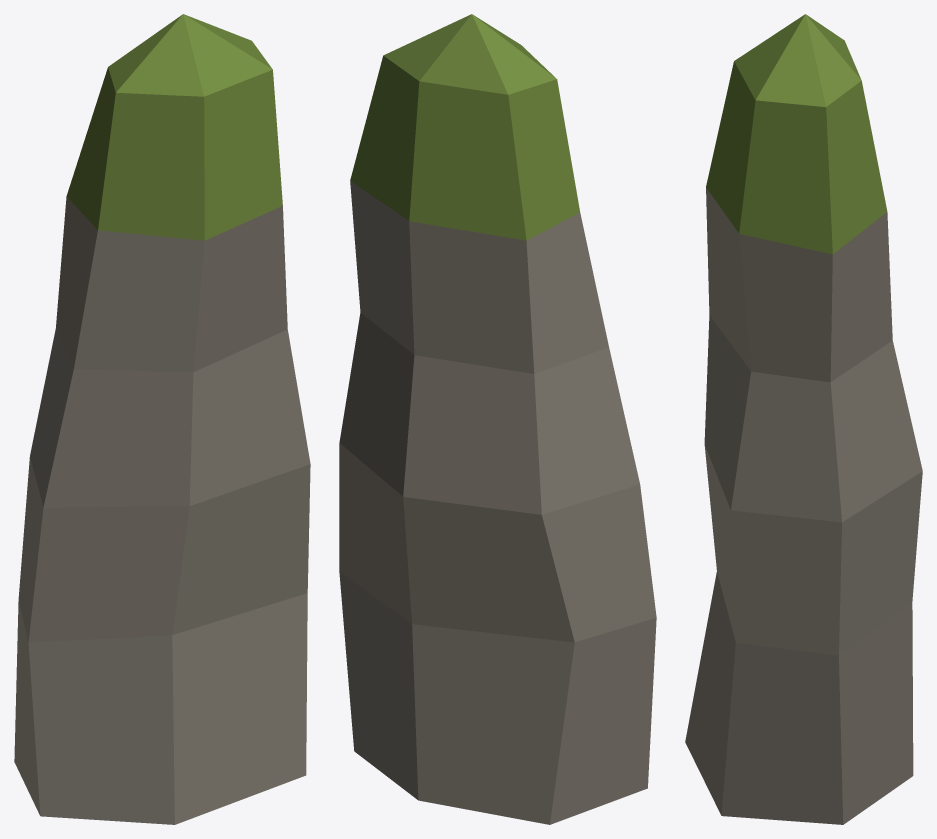
File: menhir-1.glb
The picture shows the model from 3 angles, left to right: view 1: azimuth 30°, elevation 25°; view 2: azimuth 150°, elevation 25°; view 3: azimuth 270°, elevation 25°; orthographic projection.
Visible parts, largest first — view 1: menhir-1; view 2: menhir-1; view 3: menhir-1.
Part boxes in pixels (x1,y1,x2,y2): menhir-1: (14, 14, 310, 824); menhir-1: (339, 14, 656, 824); menhir-1: (685, 14, 922, 824).
Size of the model in its own units: 1.01 by 2.53 by 0.7154.
